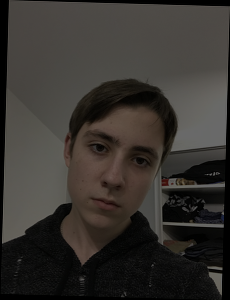without_mask: (67, 127, 160, 230)
